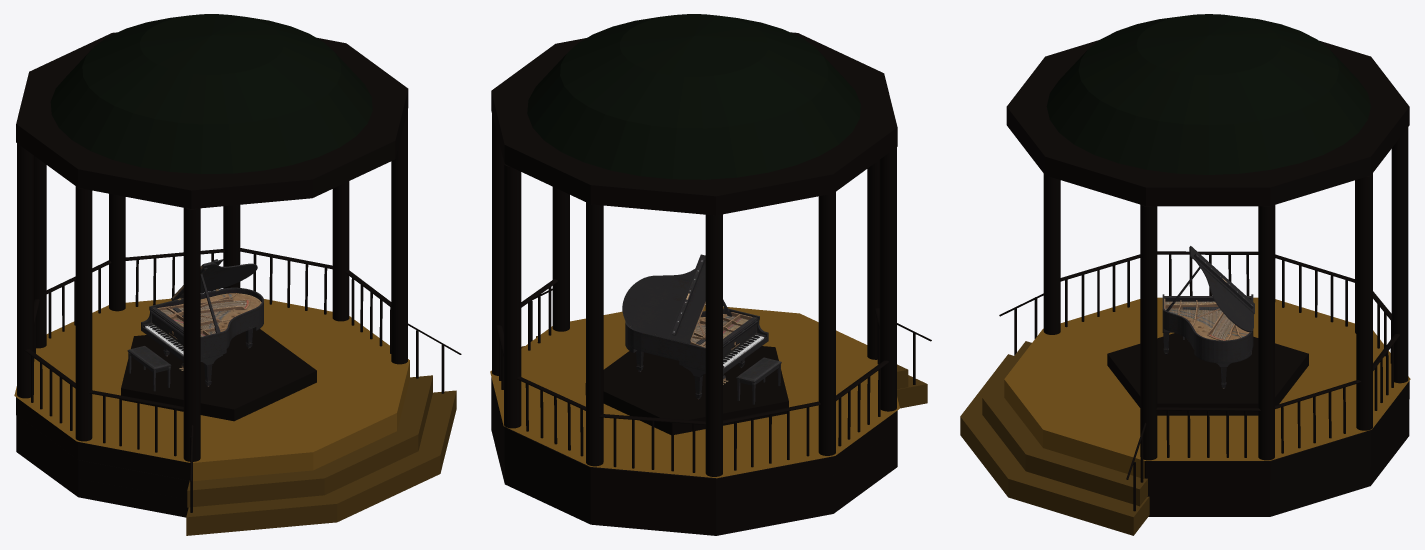
Rendered from kiosque.obj.
The picture shows the model from 3 angles, left to right: view 1: azimuth 30°, elevation 25°; view 2: azimuth 150°, elevation 25°; view 3: azimuth 270°, elevation 25°; orthographic projection. The views are drawn at different scales.
Parts seen in each view (by area): view 1: Sphere.002, Icosphere.001, Cylinder.011_Cylinder.000, Cylinder.007_Cylinder.000, Cylinder.012_Cylinder.001, Cylinder.013_Cylinder.001, 1.002, Cylinder.007, Cylinder.010, Cylinder.008, Cylinder.003_Cylinder.000, Cylinder.011 (+5 smaller); view 2: Sphere.002, Icosphere.001, Cylinder.011_Cylinder.000, Cylinder.007_Cylinder.000, 1.002, Cylinder.014_Cylinder.000, Cylinder.011, Cylinder.006, Cylinder.005_Cylinder.000, Cylinder.008, Cylinder.009, Cylinder.007 (+4 smaller); view 3: Sphere.002, Icosphere.001, Cylinder.011_Cylinder.000, Cylinder.007_Cylinder.000, Cylinder.012_Cylinder.001, 1.002, Cylinder.013_Cylinder.001, Cylinder.014_Cylinder.000, Cylinder.011, Cylinder.003_Cylinder.000, Cylinder.001_Cylinder.000, Cylinder.009 (+2 smaller).
Boxes of the visible parts, x1=… form: Sphere.002: x1=50, y1=14, x2=372, y2=173; Icosphere.001: x1=14, y1=298, x2=409, y2=481; Cylinder.011_Cylinder.000: x1=16, y1=32, x2=408, y2=208; Cylinder.007_Cylinder.000: x1=16, y1=329, x2=316, y2=480; Cylinder.012_Cylinder.001: x1=186, y1=390, x2=456, y2=535; Cylinder.013_Cylinder.001: x1=187, y1=375, x2=432, y2=507; 1.002: x1=127, y1=259, x2=263, y2=391; Cylinder.007: x1=75, y1=186, x2=92, y2=441; Cylinder.010: x1=183, y1=208, x2=200, y2=461; Cylinder.008: x1=17, y1=143, x2=33, y2=398; Cylinder.003_Cylinder.000: x1=391, y1=110, x2=407, y2=364; Cylinder.011: x1=16, y1=415, x2=189, y2=498; Sphere.002: x1=527, y1=14, x2=860, y2=179; Icosphere.001: x1=490, y1=305, x2=899, y2=478; Cylinder.011_Cylinder.000: x1=491, y1=32, x2=897, y2=215; Cylinder.007_Cylinder.000: x1=491, y1=346, x2=897, y2=498; 1.002: x1=622, y1=254, x2=781, y2=404; Cylinder.014_Cylinder.000: x1=491, y1=412, x2=897, y2=535; Cylinder.011: x1=491, y1=394, x2=897, y2=516; Cylinder.006: x1=705, y1=214, x2=722, y2=477; Cylinder.005_Cylinder.000: x1=586, y1=202, x2=603, y2=467; Cylinder.008: x1=818, y1=192, x2=835, y2=455; Cylinder.009: x1=504, y1=163, x2=521, y2=429; Cylinder.007: x1=879, y1=147, x2=896, y2=411; Sphere.002: x1=1046, y1=14, x2=1370, y2=174; Icosphere.001: x1=1004, y1=297, x2=1410, y2=478; Cylinder.011_Cylinder.000: x1=1006, y1=40, x2=1409, y2=206; Cylinder.007_Cylinder.000: x1=1107, y1=333, x2=1409, y2=480; Cylinder.012_Cylinder.001: x1=960, y1=354, x2=1149, y2=535; 1.002: x1=1162, y1=246, x2=1254, y2=388; Cylinder.013_Cylinder.001: x1=982, y1=341, x2=1147, y2=506; Cylinder.014_Cylinder.000: x1=1148, y1=418, x2=1409, y2=516; Cylinder.011: x1=1147, y1=400, x2=1409, y2=498; Cylinder.003_Cylinder.000: x1=1140, y1=204, x2=1157, y2=461; Cylinder.001_Cylinder.000: x1=1258, y1=205, x2=1274, y2=461; Cylinder.009: x1=1356, y1=173, x2=1372, y2=431.
Bounding box in the file's own units: 7.41 × 7.51 × 7.66.
